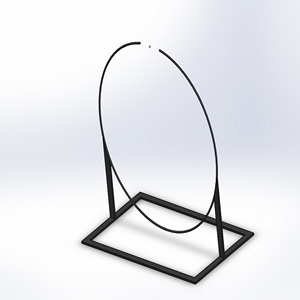circle: (80, 38, 256, 285)
